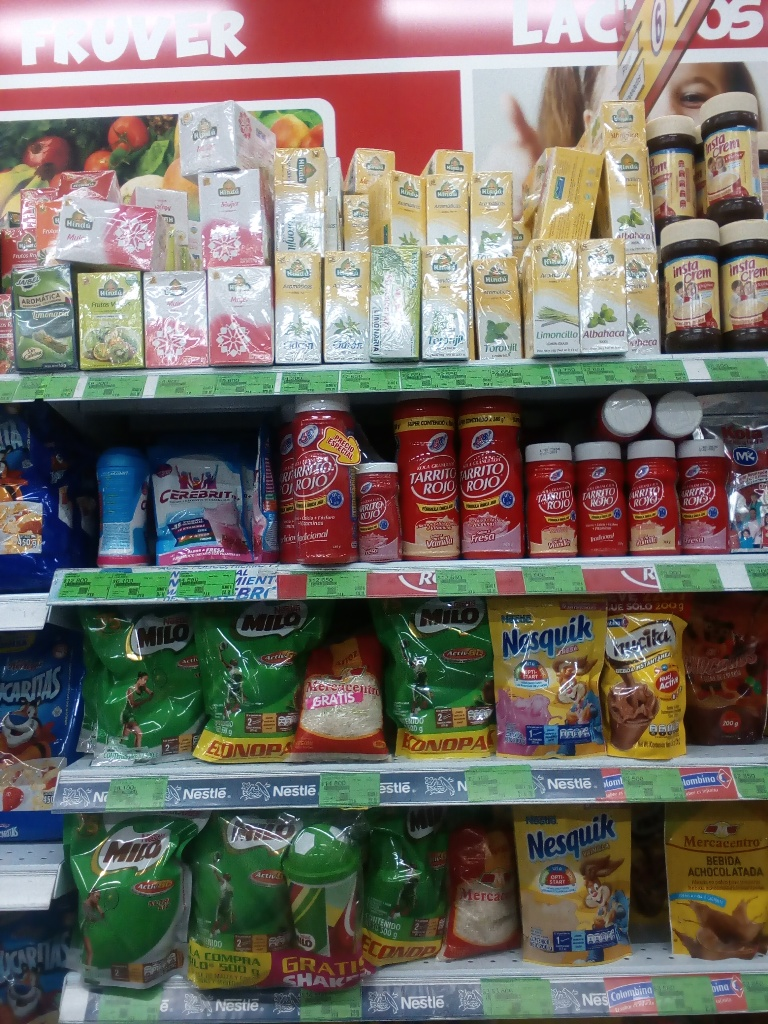COL0170203DYP50000: (199, 602, 303, 764)
COL0170205DYP50000: (75, 605, 200, 766)
COL0170305DYP20000: (487, 596, 607, 760)
COL0170306DYP20000: (514, 803, 632, 967)
